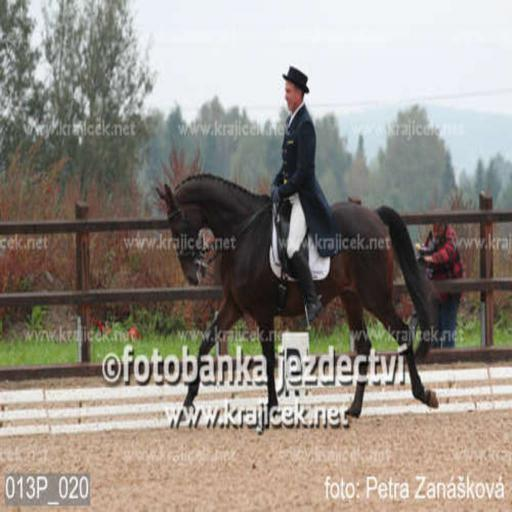horse: (156, 169, 436, 431)
